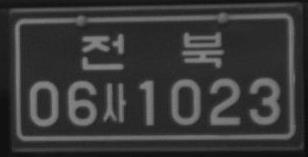0: (169, 76, 202, 126), (29, 79, 59, 128)
1: (134, 78, 161, 125)
2: (208, 76, 242, 126)
3: (248, 75, 281, 126)
6: (66, 78, 98, 127)
사: (101, 81, 127, 123)
전북_D: (80, 30, 224, 71)
